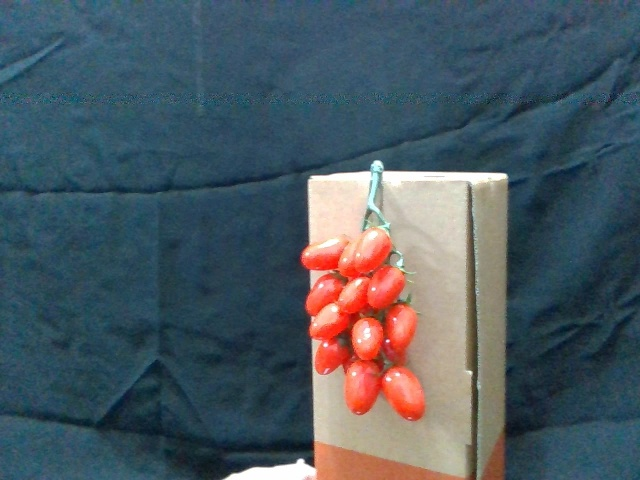tomato: (382, 365, 428, 423), (384, 304, 421, 362), (346, 359, 381, 417), (365, 264, 407, 310), (354, 227, 394, 275), (298, 236, 352, 271), (349, 314, 385, 365), (308, 303, 349, 343), (312, 336, 350, 377), (305, 274, 344, 313), (341, 276, 374, 316)
